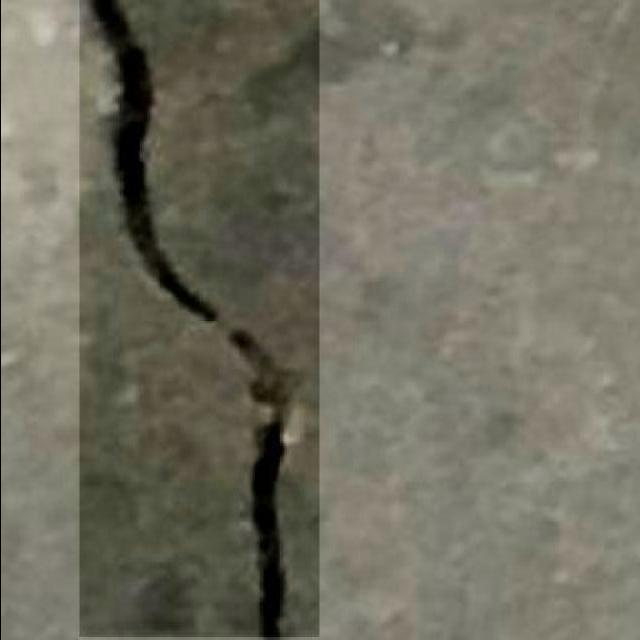SurfaceCrack: (74, 0, 314, 640)
